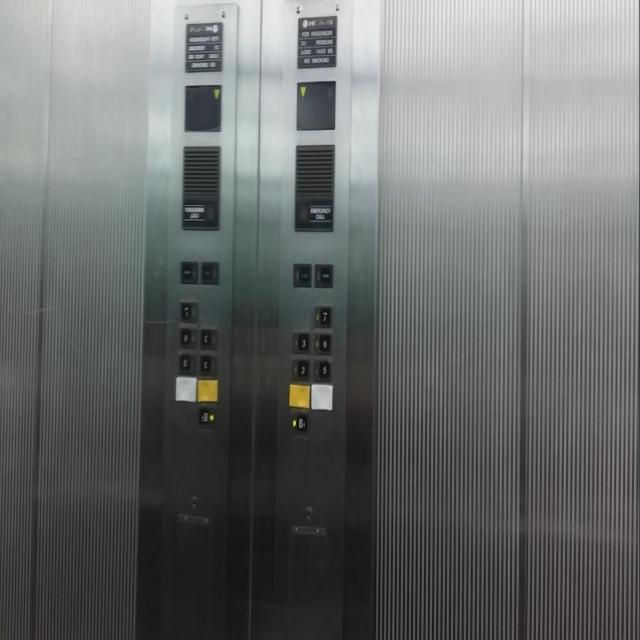2: (290, 358, 312, 382)
3: (290, 330, 311, 355)
5: (313, 358, 332, 381)
6: (312, 330, 332, 355)
7: (311, 304, 332, 328)
B1: (288, 409, 308, 434)
blur: (292, 261, 312, 288), (313, 261, 333, 288), (200, 260, 219, 285), (179, 261, 198, 283)
empty: (175, 375, 198, 403), (310, 382, 332, 411), (196, 377, 219, 404), (288, 381, 310, 409)
led: (296, 81, 336, 129), (184, 84, 221, 132)
unknown: (198, 403, 216, 427), (179, 300, 197, 323), (178, 326, 196, 348), (200, 327, 217, 350), (178, 352, 196, 373), (199, 354, 216, 376)
